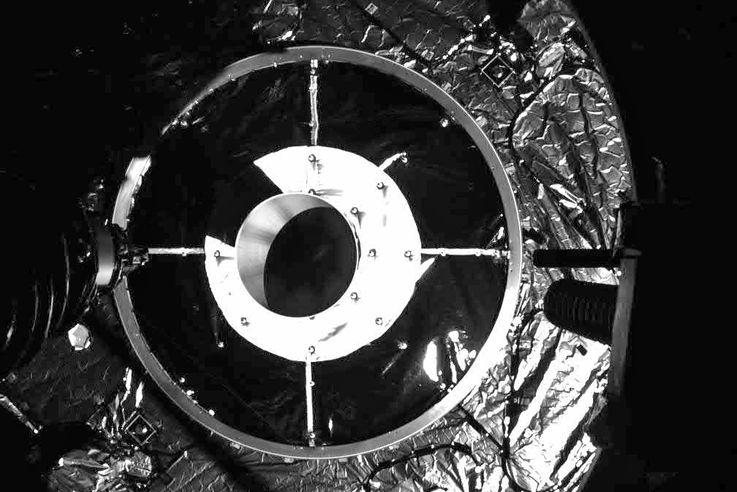antenna: (0, 147, 103, 382), (540, 275, 631, 349)
body: (0, 0, 644, 491)
thruster: (231, 188, 363, 320)
